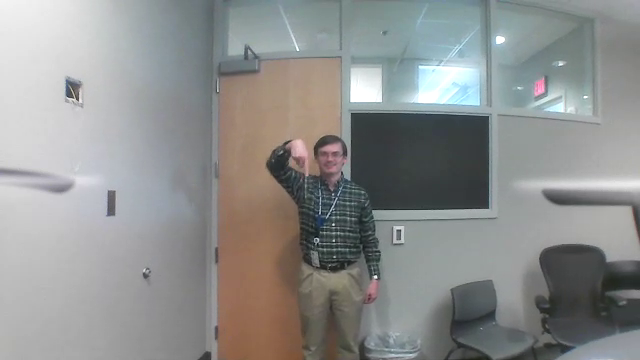down: (280, 135, 312, 183)
